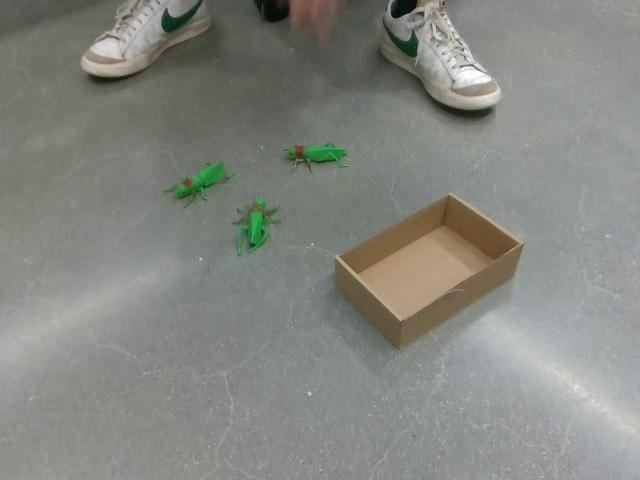box: (333, 191, 524, 350)
grasshopper: (162, 159, 234, 208), (231, 194, 280, 256), (282, 141, 350, 172)
